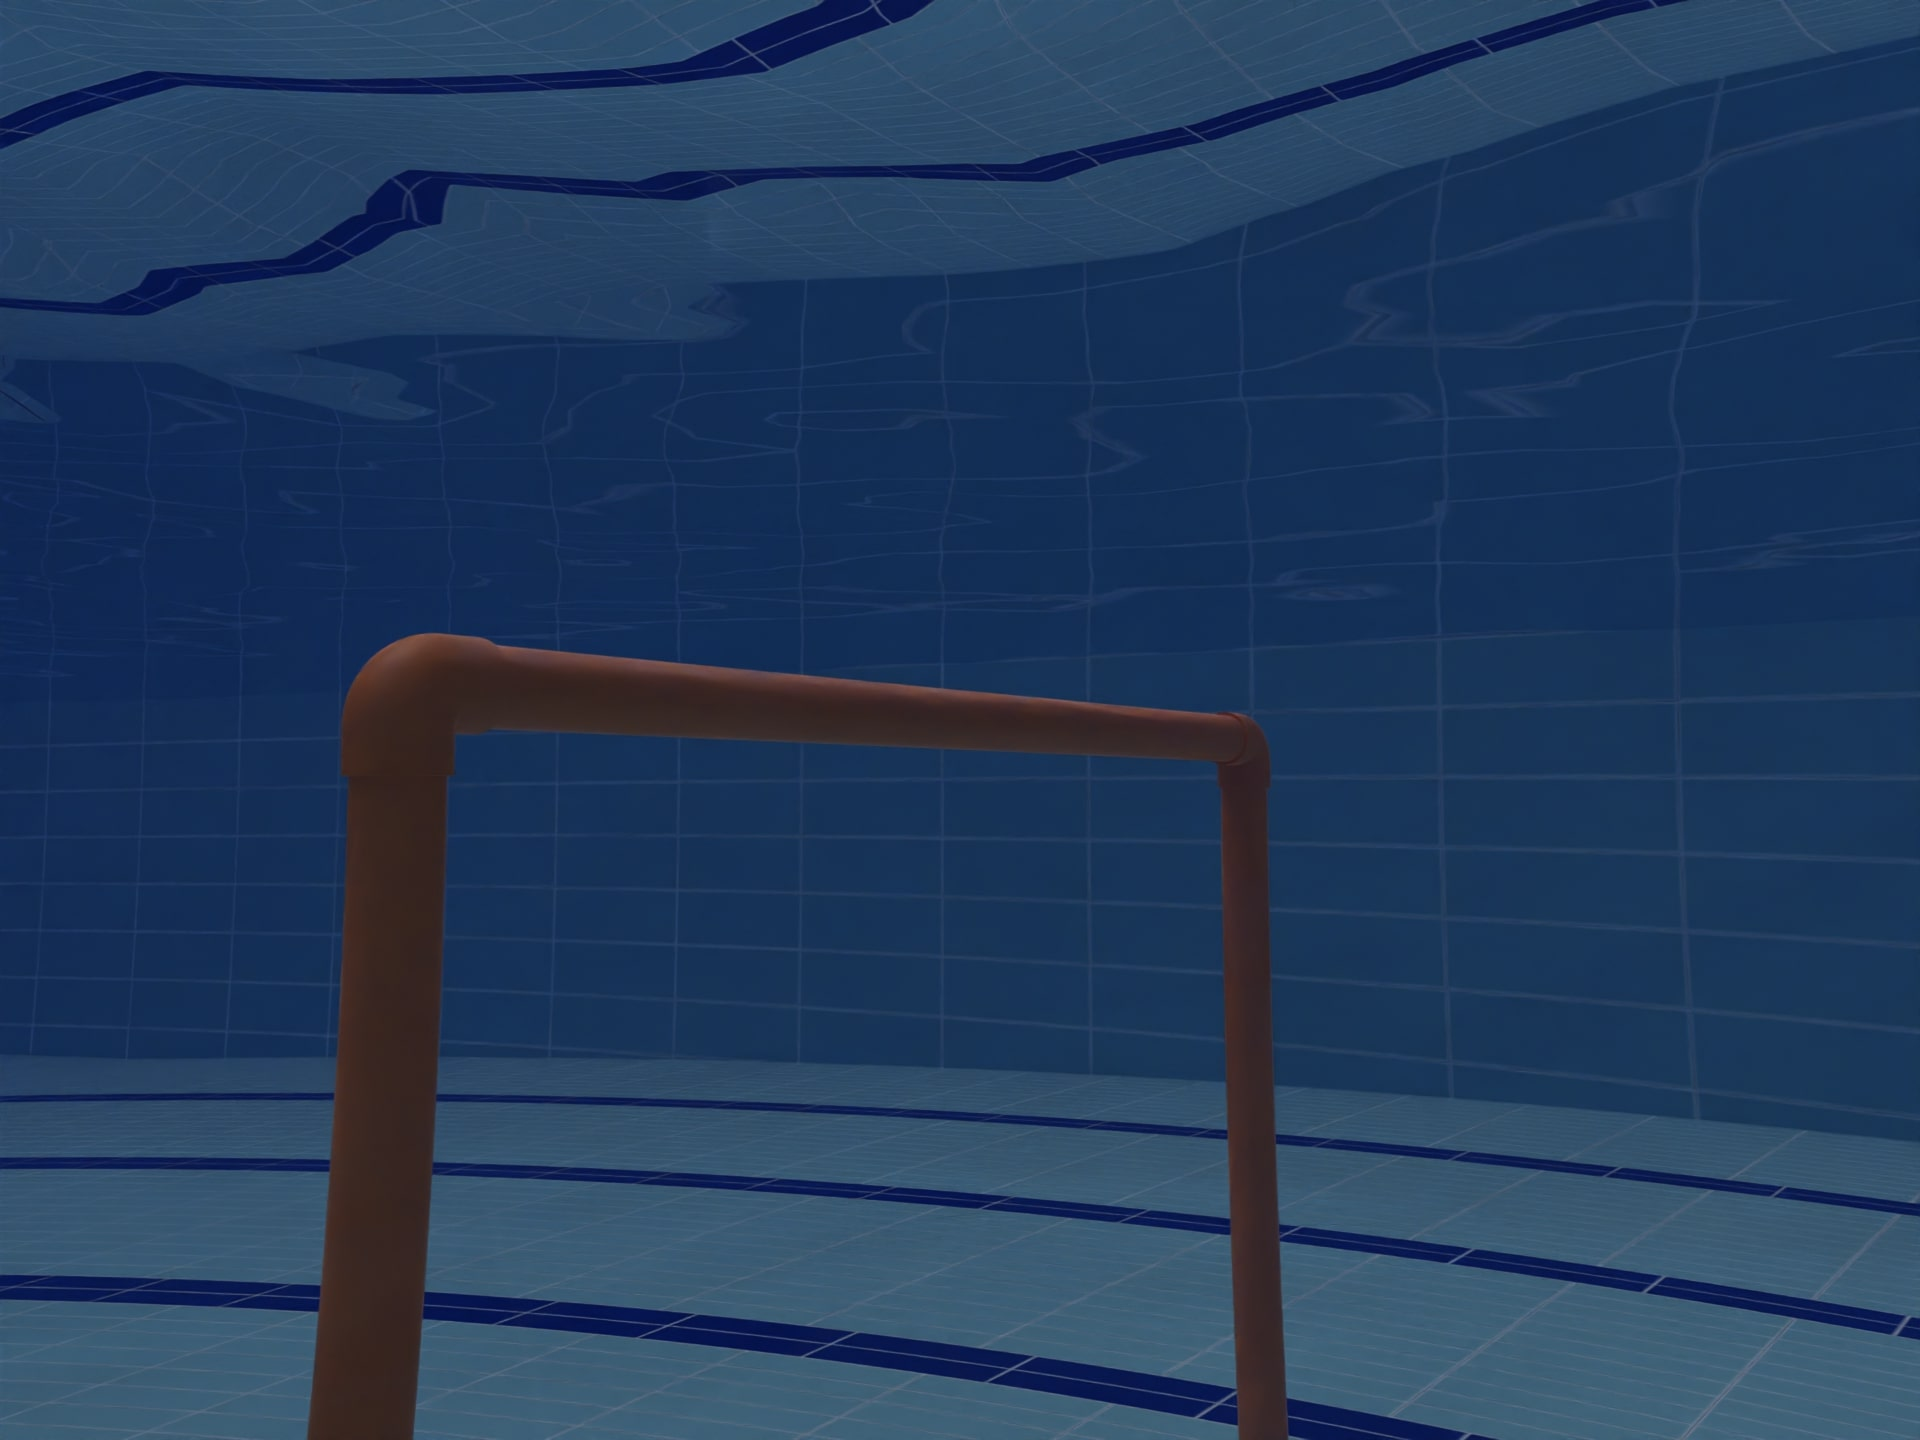gate: (216, 538, 1457, 1440)
